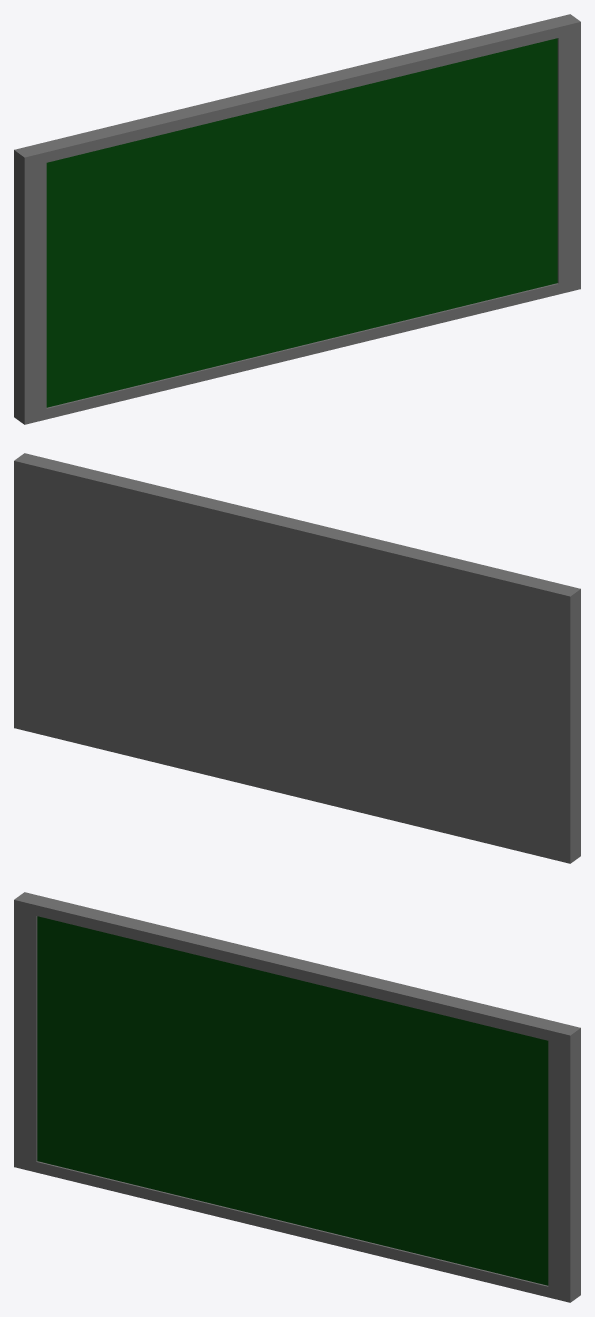
Rendered from blackboard2.fbx.
3 renders of one model, top to bottom at view 1: azimuth 30°, elevation 25°; view 2: azimuth 150°, elevation 25°; view 3: azimuth 330°, elevation 25°, orthographic.
Parts seen in each view (by area): view 1: Cube.366; view 2: Cube.366; view 3: Cube.366.
Part boxes in pixels (box(x1,y1,x2,y2)): Cube.366: box(14, 14, 580, 424); Cube.366: box(14, 453, 580, 863); Cube.366: box(14, 892, 580, 1302).
Bounding box in the file's own units: 326 × 150 × 10.7.
